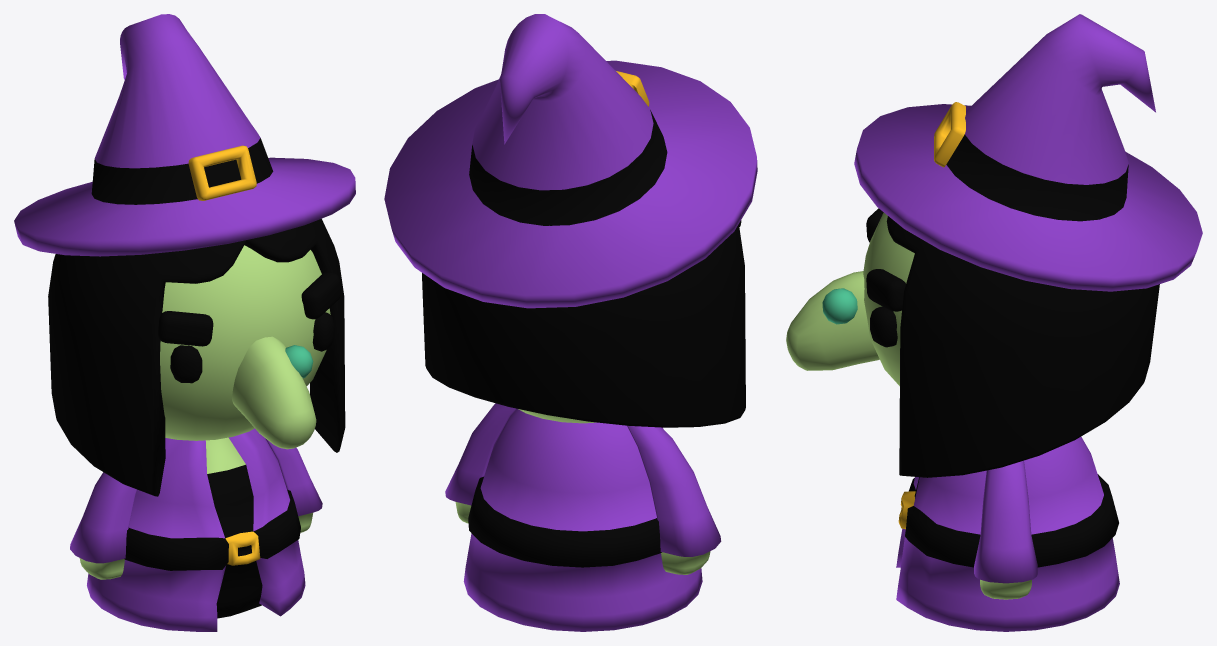
The model's file is character_witch.glb.
The picture shows the model from 3 angles, left to right: view 1: azimuth 30°, elevation 25°; view 2: azimuth 150°, elevation 25°; view 3: azimuth 270°, elevation 25°; orthographic projection. The views are drawn at different scales.
Parts seen in each view (by area): view 1: character_witch; view 2: character_witch; view 3: character_witch.
Boxes of the visible parts, x1,y1,x2,y2 form: character_witch: (14, 14, 355, 631); character_witch: (384, 14, 757, 631); character_witch: (786, 14, 1202, 631).
Bounding box in the file's own units: 0.3701 × 0.6531 × 0.4305.
